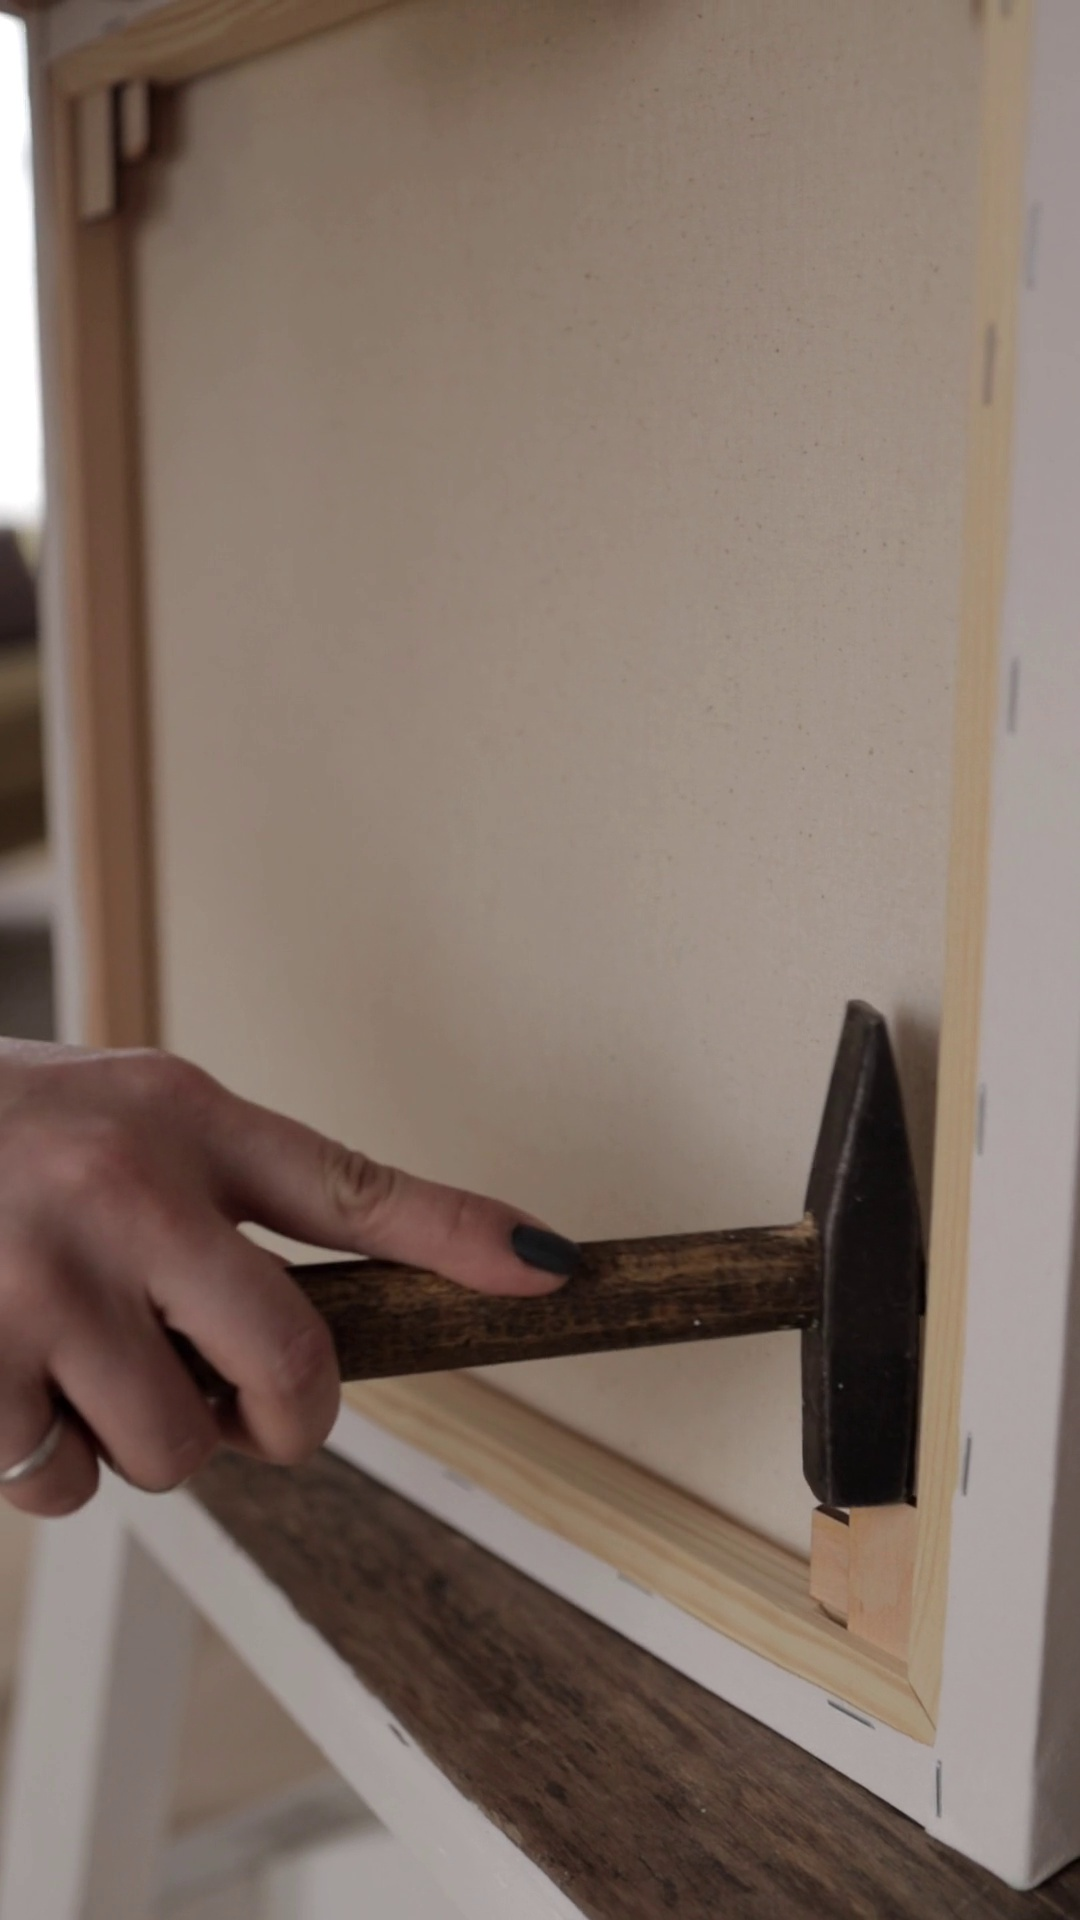hammer: (1, 992, 934, 1520)
